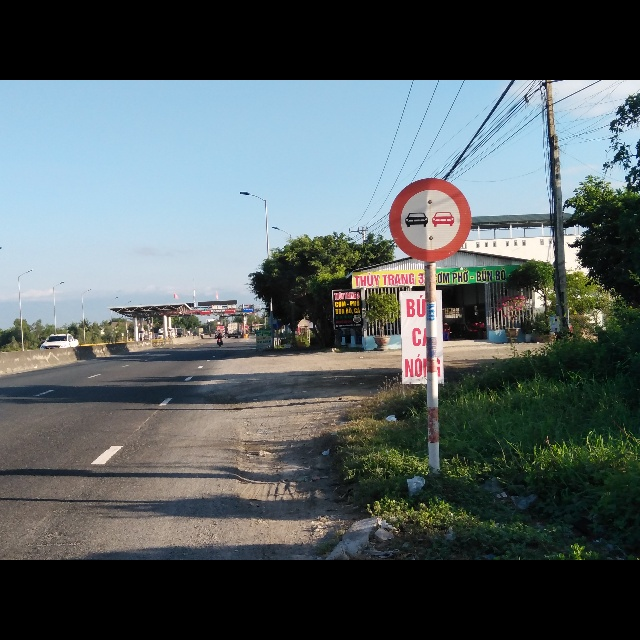Cấm vượt: (386, 178, 471, 262)
